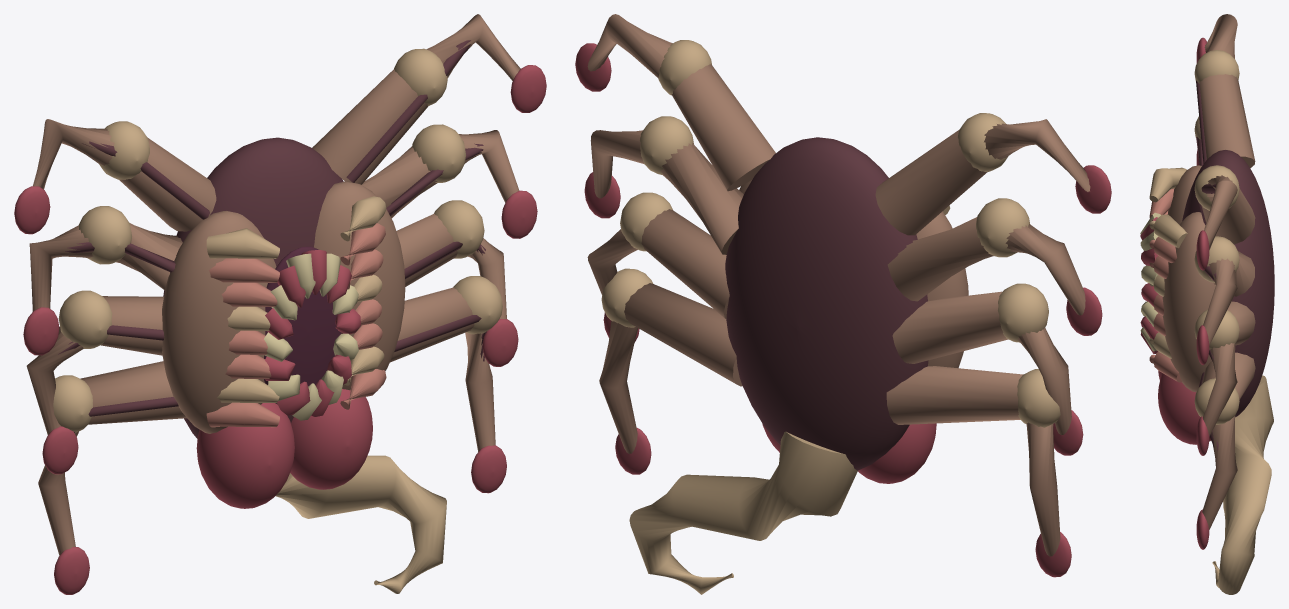
Rendered from canopy_parasite.glb.
The picture shows the model from 3 angles, left to right: view 1: azimuth 30°, elevation 25°; view 2: azimuth 150°, elevation 25°; view 3: azimuth 270°, elevation 25°; orthographic projection. The views are drawn at different scales.
Parts seen in each view (by area): view 1: canopy_parasite; view 2: canopy_parasite; view 3: canopy_parasite.
Boxes of the visible parts, x1,y1,x2,y2 form: canopy_parasite: (14, 14, 546, 594); canopy_parasite: (575, 14, 1111, 594); canopy_parasite: (1140, 14, 1274, 594).
Size of the model in its own units: 3.47 by 3.47 by 0.9559.
